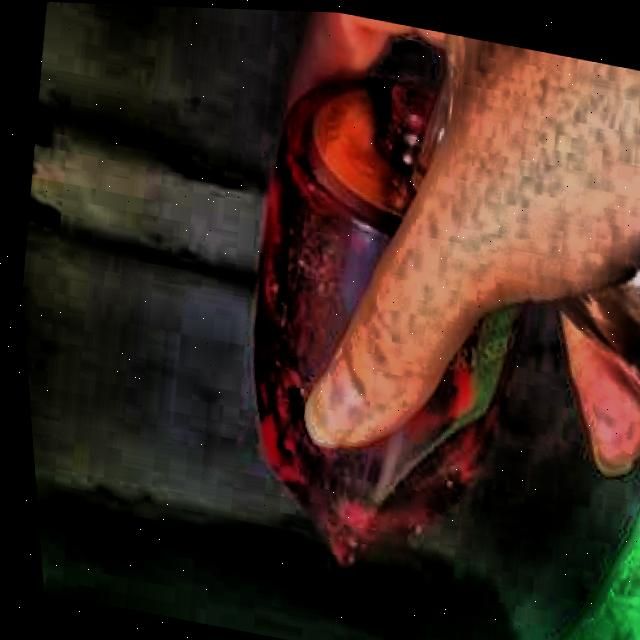glass: (249, 73, 513, 558)
